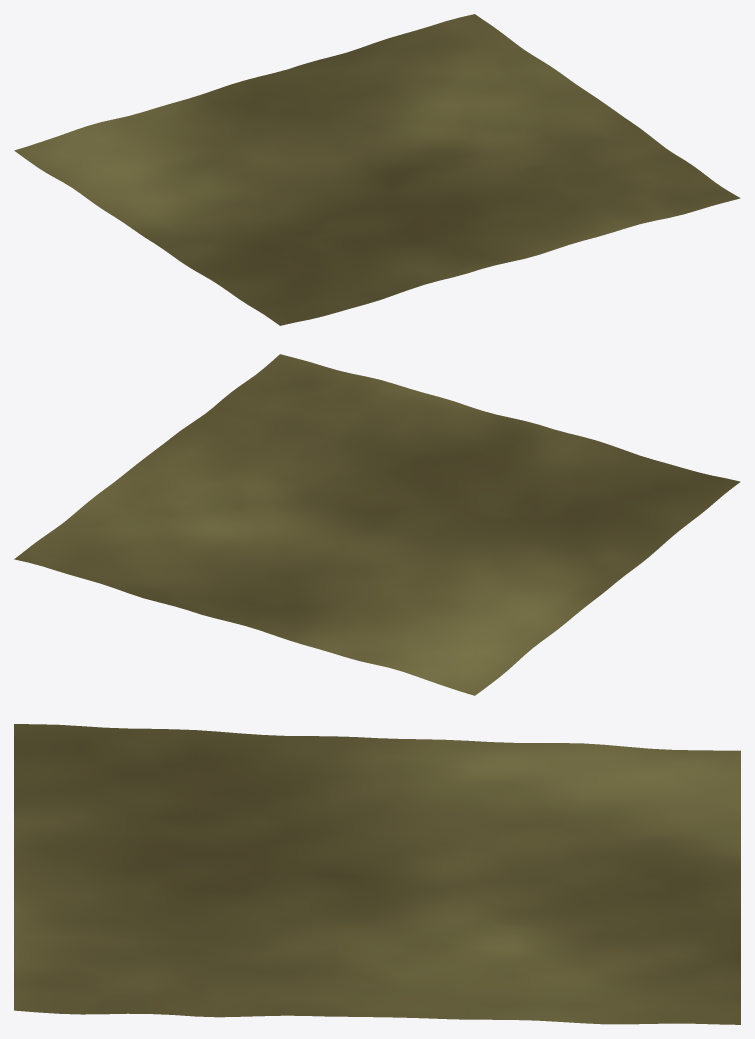
File: terrain_lod0_-5_-2.obj
3 renders of one model, top to bottom at view 1: azimuth 30°, elevation 25°; view 2: azimuth 150°, elevation 25°; view 3: azimuth 270°, elevation 25°, orthographic. The views are drawn at different scales.
Parts seen in each view (by area): view 1: terrain_lod0_-5_-2; view 2: terrain_lod0_-5_-2; view 3: terrain_lod0_-5_-2.
Boxes of the visible parts, left/top/right/bottom form: terrain_lod0_-5_-2: left=14, top=14, right=740, bottom=325; terrain_lod0_-5_-2: left=14, top=354, right=740, bottom=695; terrain_lod0_-5_-2: left=14, top=724, right=740, bottom=1024.
Size of the model in its own units: 128 by 9.16 by 128.
